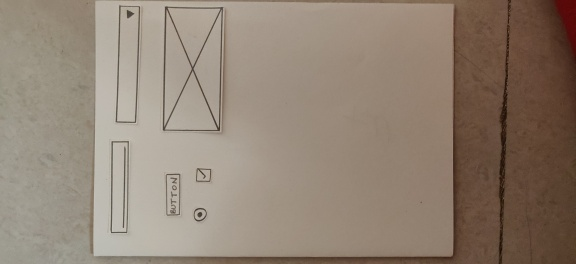button: (162, 170, 183, 218)
checkbox: (192, 166, 214, 185)
dropdown: (112, 3, 143, 128)
img: (160, 4, 226, 136)
radio: (190, 206, 209, 223)
text: (106, 137, 132, 237)
